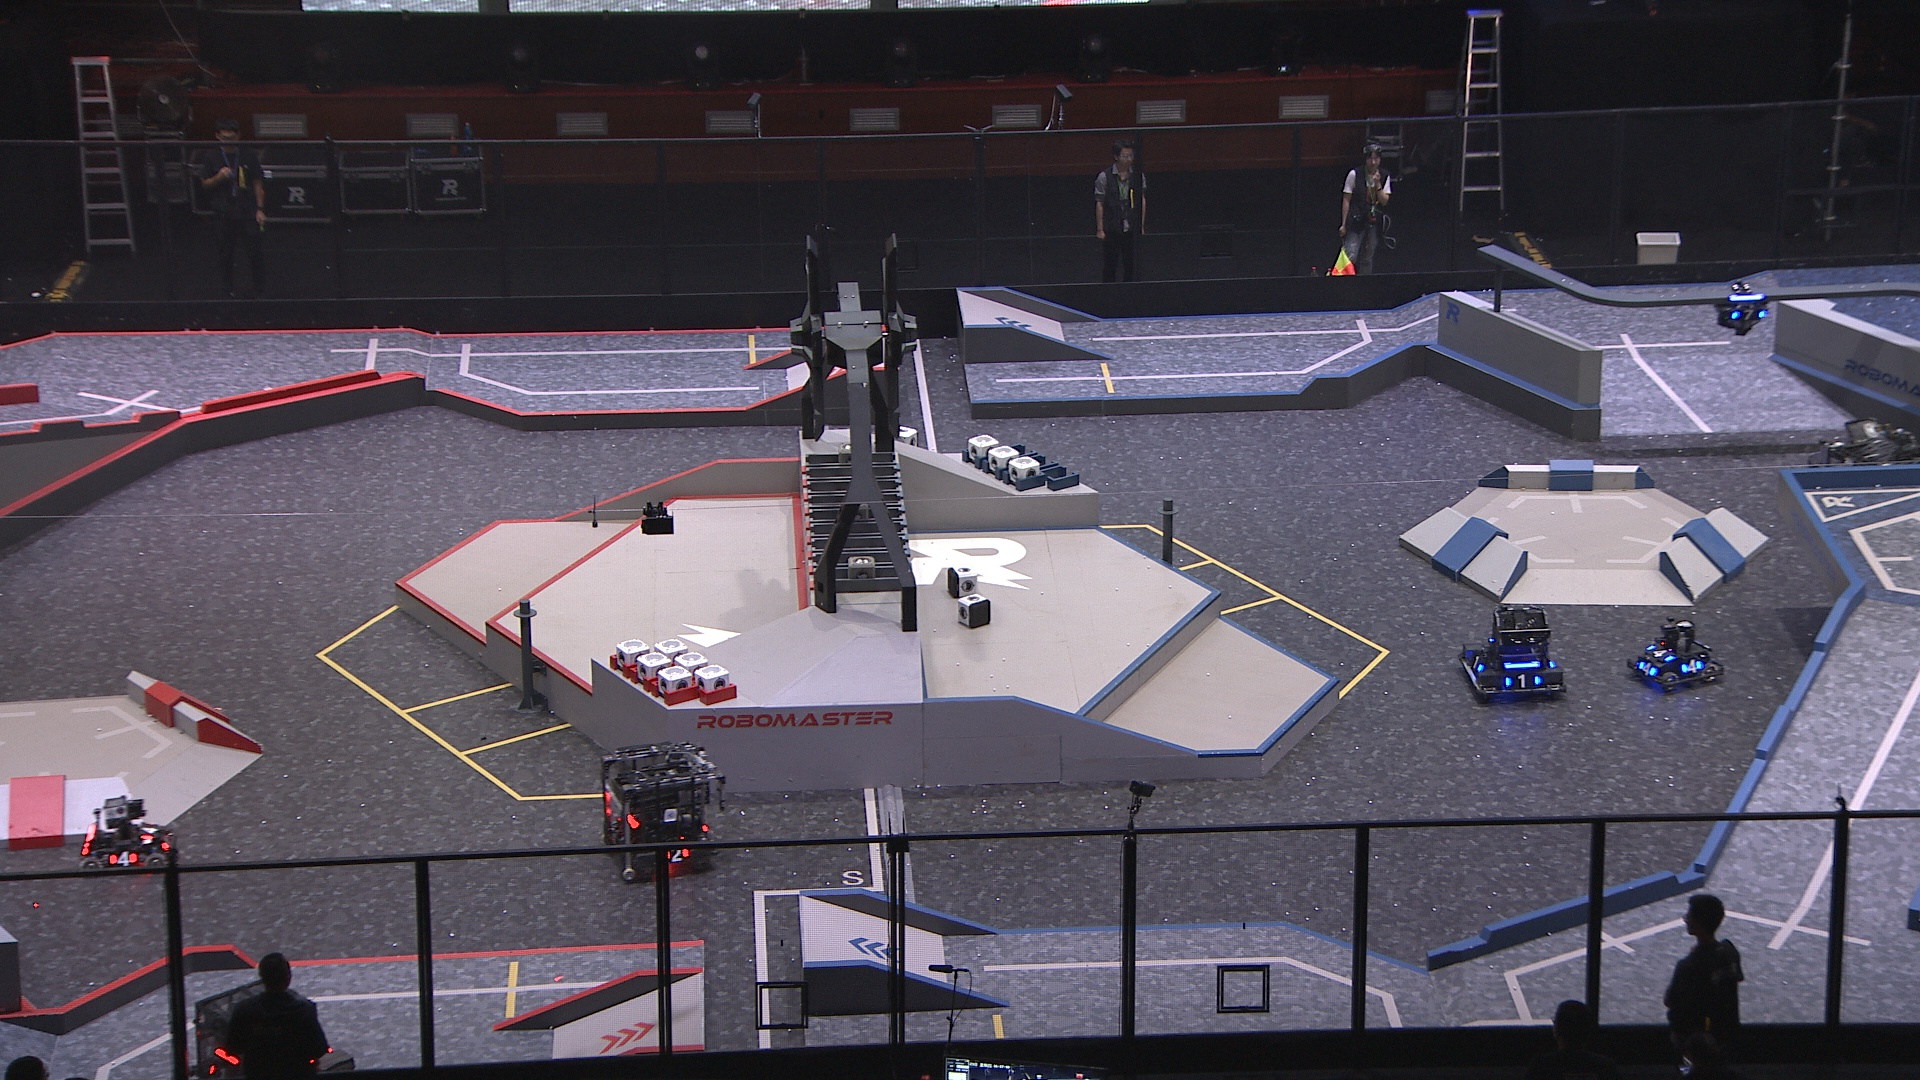armor: (1727, 305, 1768, 323), (1503, 674, 1543, 690), (1673, 655, 1705, 675), (1466, 647, 1485, 676), (661, 845, 688, 864), (1647, 642, 1675, 661), (107, 851, 138, 866), (1634, 659, 1660, 678), (138, 820, 158, 841)
car: (597, 738, 723, 880), (187, 975, 330, 1080), (1815, 418, 1920, 546), (1458, 604, 1571, 700), (74, 793, 185, 880), (1629, 618, 1722, 695)
watcher: (1718, 277, 1770, 335)
